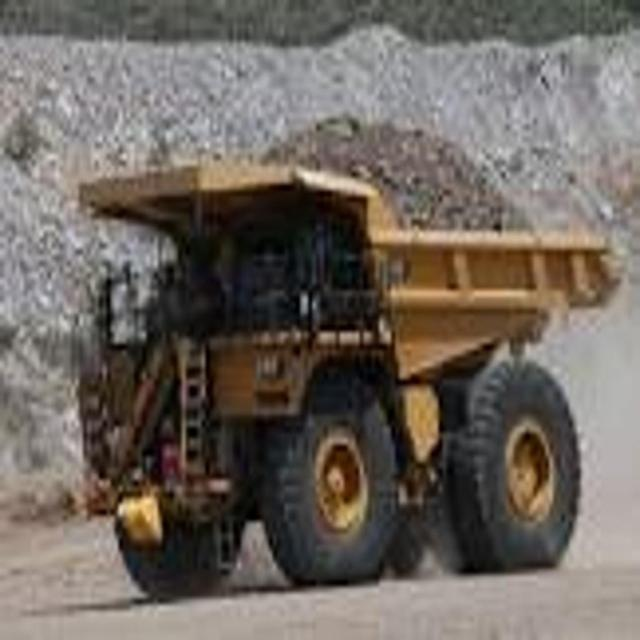dump_truck: (75, 162, 627, 608)
